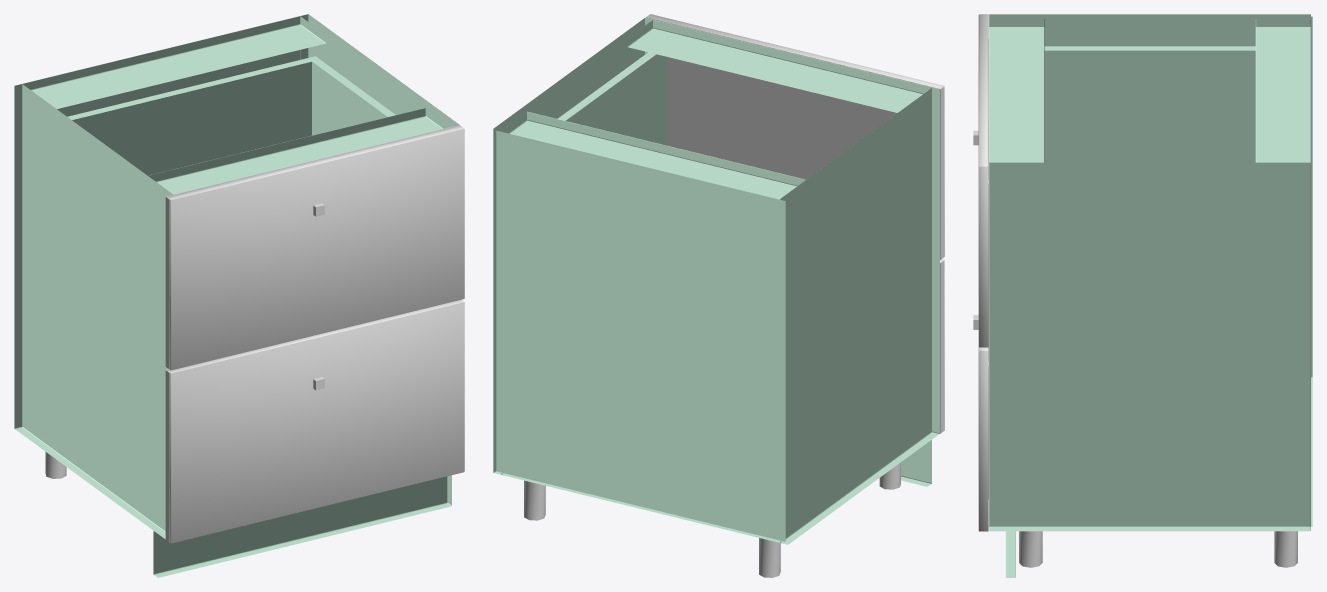
The model's file is M_2YNSD_8.glb.
The picture shows the model from 3 angles, left to right: view 1: azimuth 30°, elevation 25°; view 2: azimuth 150°, elevation 25°; view 3: azimuth 270°, elevation 25°; orthographic projection. The views are drawn at different scales.
Parts seen in each view (by area): view 1: M_2YNSD_8, M_2YNSD_1_F.012, M_2YNSD_1_F.013, M_2YNSD_8_F_8, M_2YNSD_1_F_C.012, M_2YNSD_1_F_C.013; view 2: M_2YNSD_8, M_2YNSD_1_F_A.012, M_2YNSD_8_F_8, M_2YNSD_1_F_B.012, Legs.008, M_2YNSD_1_F.012, M_2YNSD_1_F_C.012, M_2YNSD_1_F_C.013; view 3: M_2YNSD_8, M_2YNSD_8_F_8, M_2YNSD_1_F.012, M_2YNSD_1_F.013, Legs.008.
Part boxes in pixels (x1,y1,x2,y2): M_2YNSD_8: (14,14,459,577); M_2YNSD_1_F.012: (167,125,464,370); M_2YNSD_1_F.013: (167,299,464,543); M_2YNSD_8_F_8: (67,56,395,175); M_2YNSD_1_F_C.012: (165,197,169,368); M_2YNSD_1_F_C.013: (165,371,169,542); M_2YNSD_8: (493,17,939,544); M_2YNSD_1_F_A.012: (646,17,942,176); M_2YNSD_8_F_8: (557,52,667,145); M_2YNSD_1_F_B.012: (794,53,943,259); Legs.008: (524,462,900,577); M_2YNSD_1_F.012: (646,14,944,256); M_2YNSD_1_F_C.012: (667,77,944,259); M_2YNSD_1_F_C.013: (940,261,944,432); M_2YNSD_8: (989,14,1312,577); M_2YNSD_8_F_8: (988,46,1255,498); M_2YNSD_1_F.012: (978,14,988,347); M_2YNSD_1_F.013: (978,347,988,531); Legs.008: (1019,531,1297,567).
Size of the model in its own units: 6.84 by 8.6 by 6.43.
